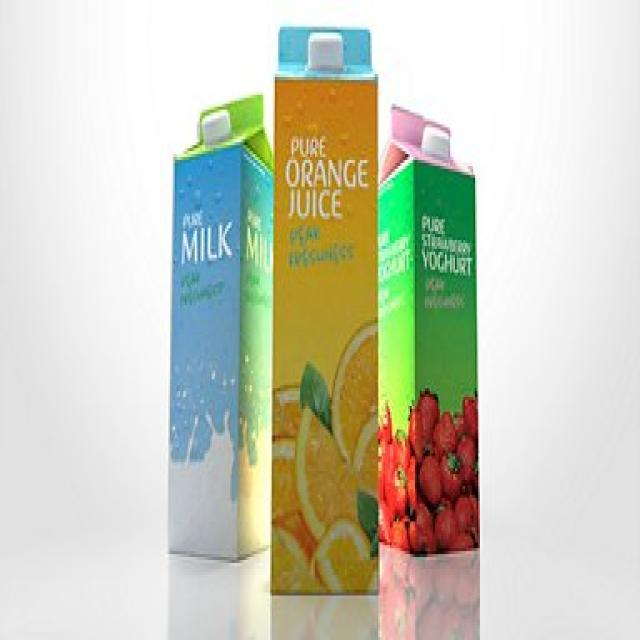Carton: (377, 80, 491, 579), (165, 84, 272, 563)
